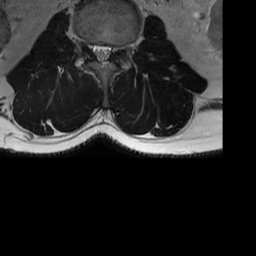CCS_normal: (99, 36, 105, 70)
LFS_stenosis: (111, 36, 119, 60)
LLS_normal: (105, 36, 111, 68)
RFS_stenosis: (83, 33, 91, 56)
RLS_normal: (91, 36, 99, 65)
